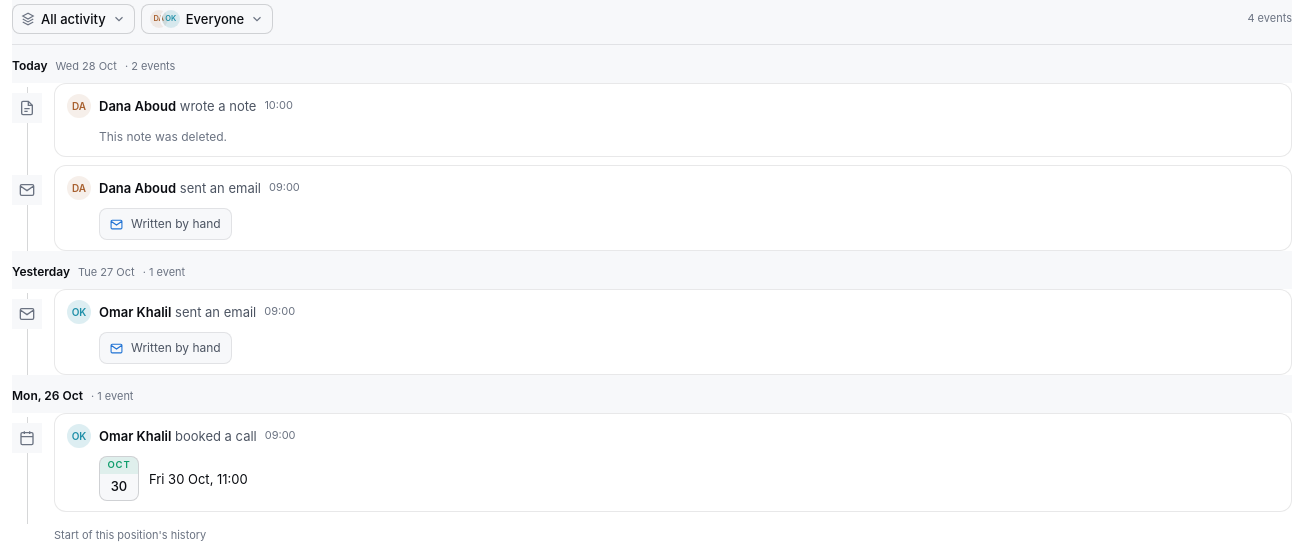
ActivityTimeline › filters › narrows by kind, counts what shows, and clears in one press
Click the button with aria-label "Filter by kind": (73, 19) [12,4,135,34]
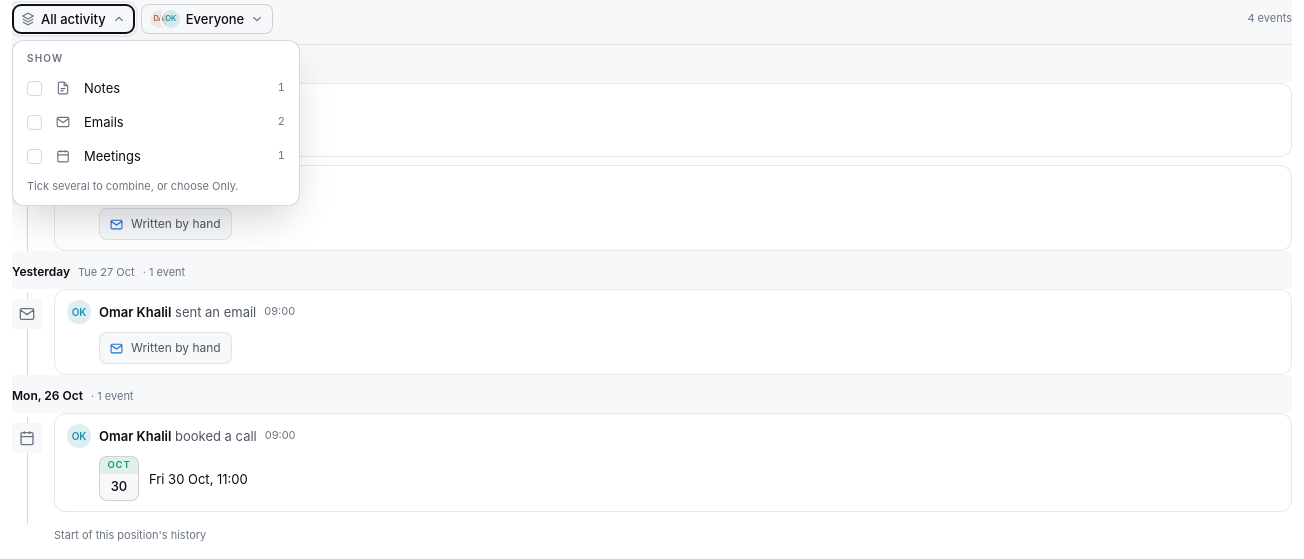
Result: the menu item "Emails 2" is shown
Click the menu item "Emails 2": (104, 122) [19,105,293,139]
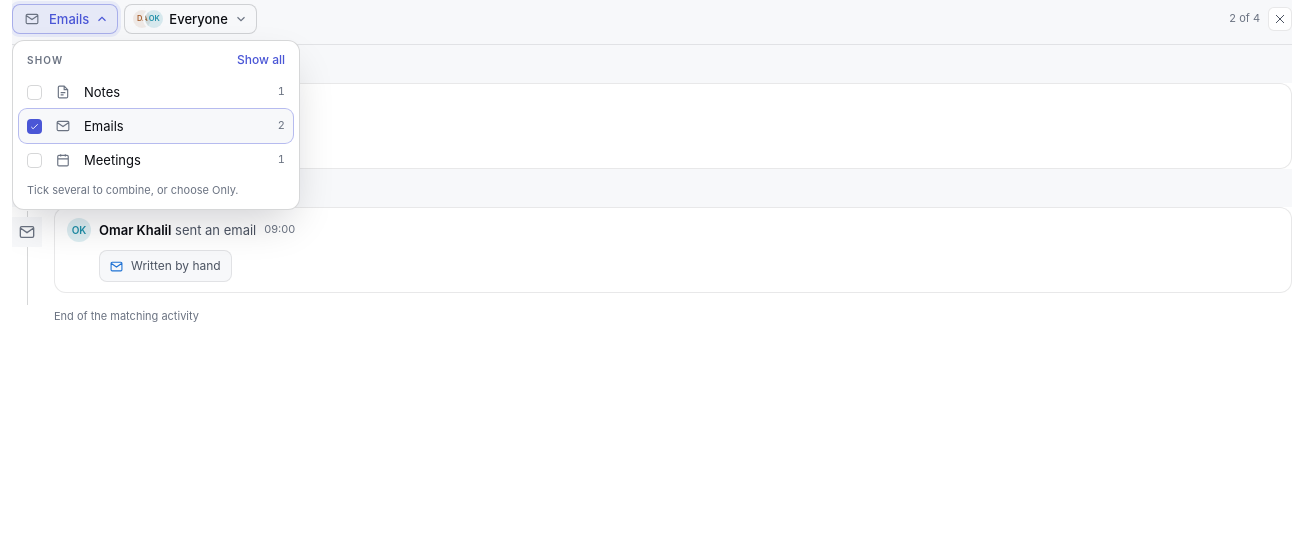
Result: the text "2 of 4" is shown at [1229,7,1292,31]
Result: the button "wrote a note" is gone
Result: the number of buttons "DA Dana Aboud sent an email 09:00 Written by hand" is 2 at [54,83,1292,169]; [54,207,1292,293]
Click the button named "Clear filters": (1280, 19) [1268,7,1292,31]
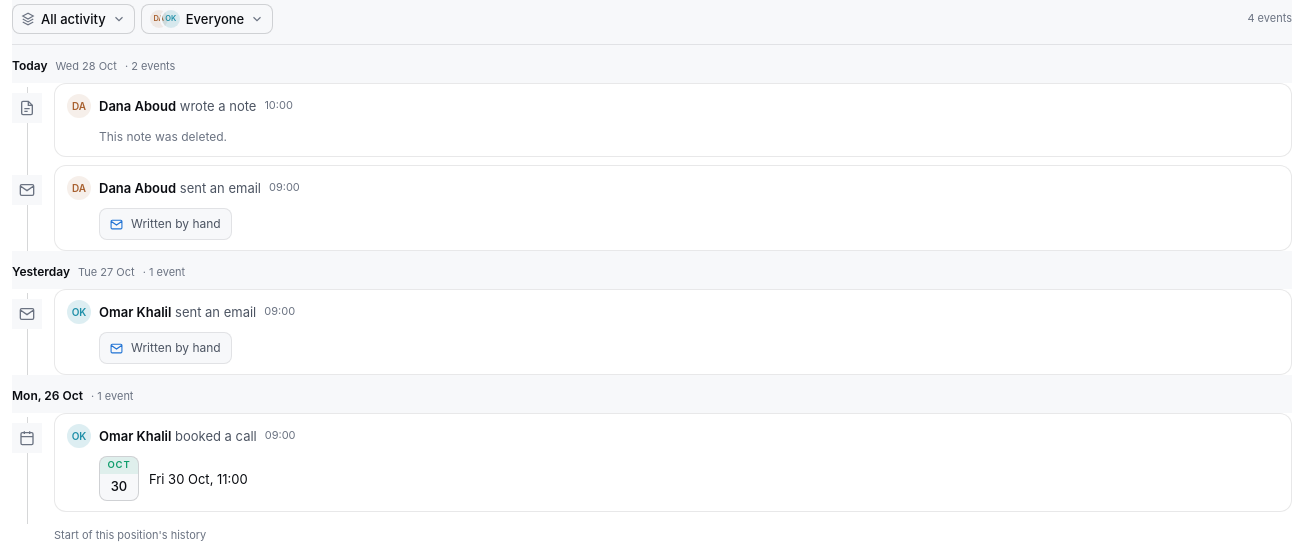
Result: the text "4 events" is shown at [1247,11,1292,27]
